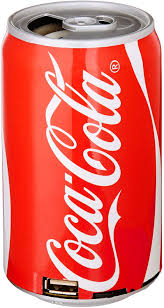coca_cola_can: (2, 1, 163, 308)
